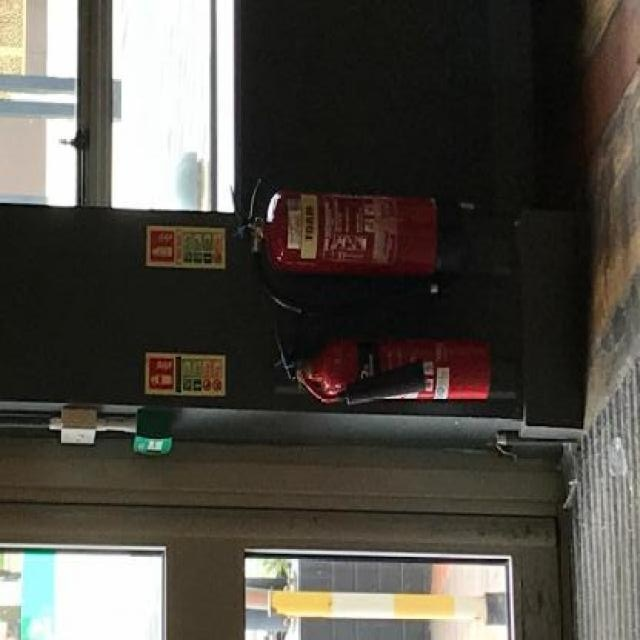fire extinguisher: (231, 179, 469, 316), (269, 321, 491, 407)
